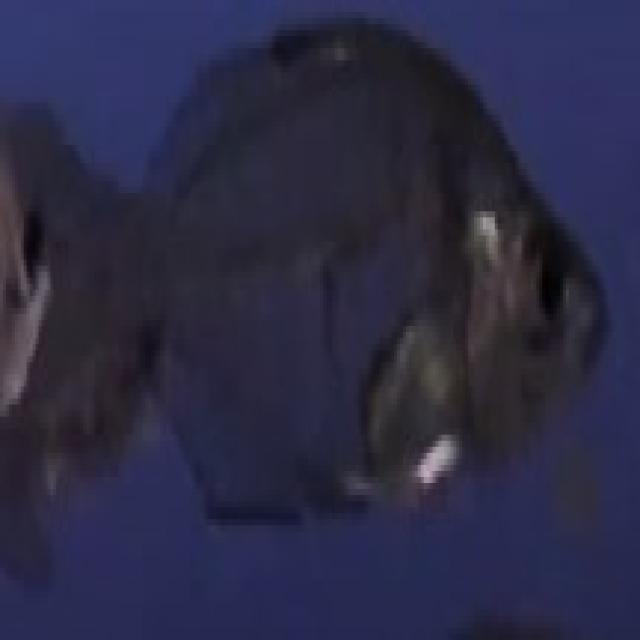Glass-Perchlet: (12, 2, 626, 593)
